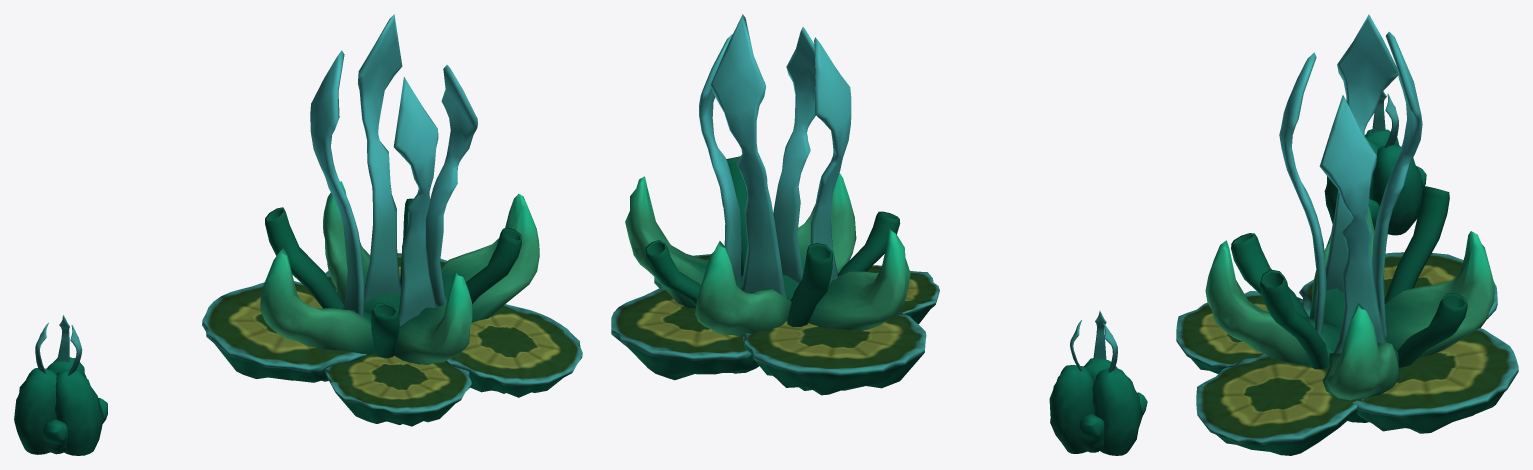
Rendered from BushFongteh.fbx.
3 views of the same model, side by side, from view 1: azimuth 30°, elevation 25°; view 2: azimuth 150°, elevation 25°; view 3: azimuth 270°, elevation 25° (orthographic). The views are drawn at different scales.
Visible parts, largest first — view 1: BushFongtehGrown, BushFongtehSeed; view 2: BushFongtehGrown, BushFongtehSeed; view 3: BushFongtehGrown, BushFongtehSeed.
Part boxes in pixels (bbox=[...]): BushFongtehGrown: bbox=[202, 14, 582, 426]; BushFongtehSeed: bbox=[14, 315, 107, 455]; BushFongtehGrown: bbox=[611, 14, 939, 395]; BushFongtehSeed: bbox=[1049, 310, 1147, 455]; BushFongtehGrown: bbox=[1176, 14, 1518, 455]; BushFongtehSeed: bbox=[1324, 91, 1426, 235].
Size of what is drawn, in the model's own units: 273 by 176 by 146.
1 material, 1 textured.
